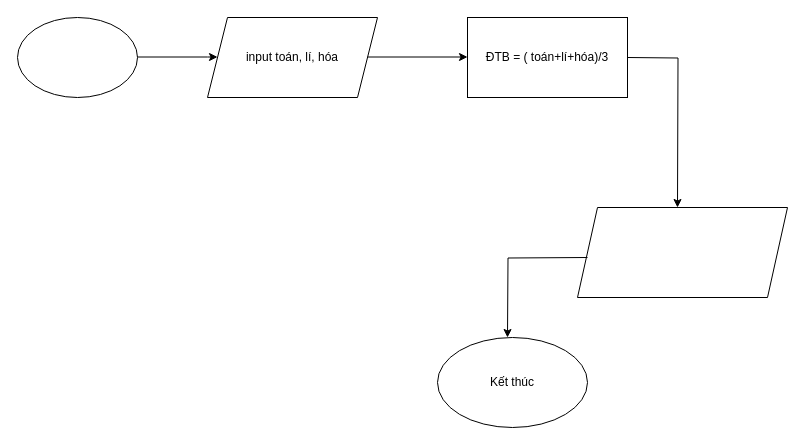
The diagram is 805 pixels wide and 445 high, and some of its shapes have lost their labels. Here are the shapes that lost their labels. From the top down, the centre of each, then its label:
point (77, 57): bắt đầu
point (682, 252): output: ĐTB
